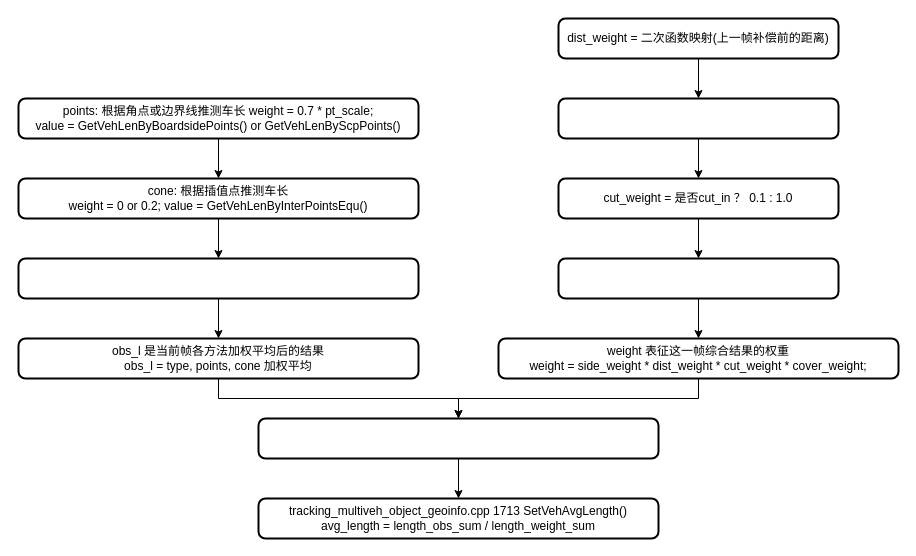
The diagram is 916 pixels wide and 556 high, and some of its shapes have lost their labels. The shapes that lost their labels are listed below. From the top down, each one's box as (x1, y1, x2, y2) in pixels, then its label:
(557, 97, 839, 139): side_weight = side_width / width_thrld
(17, 257, 419, 299): type: 根据车型、车宽推测车长 weight = submiss ? 0.01 : 0.1; value = InitVehLByWidth()
(557, 257, 839, 299): cover_weight = 二次函数映射(tf->cover_)
(257, 417, 659, 459): length_obs_sum += obs_l * weight length_weight_sum += weight
